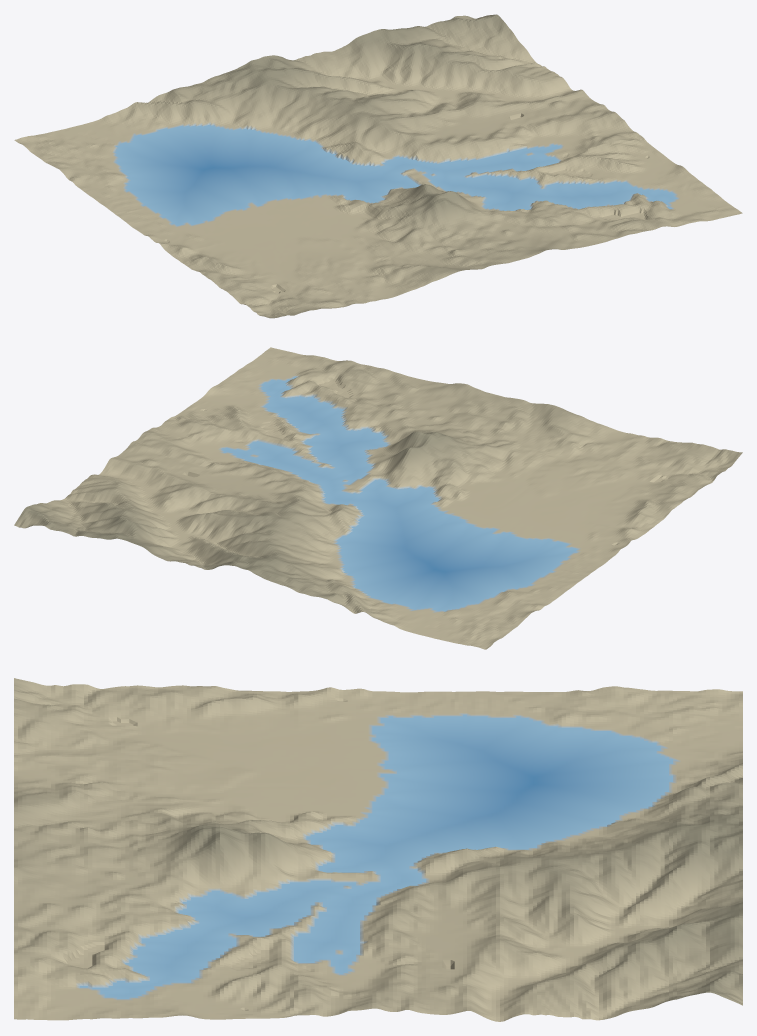
The model's file is clear_lake_ca.glb.
The picture shows the model from 3 angles, top to bottom: view 1: azimuth 30°, elevation 25°; view 2: azimuth 150°, elevation 25°; view 3: azimuth 270°, elevation 25°; orthographic projection. The views are drawn at different scales.
Parts seen in each view (by area): view 1: terrain, water; view 2: terrain, water; view 3: terrain, water.
Boxes of the visible parts, <box> form: terrain: <box>14,14,742,318</box>; water: <box>115,125,677,225</box>; terrain: <box>14,347,742,649</box>; water: <box>221,376,577,611</box>; terrain: <box>14,678,742,1021</box>; water: <box>80,714,672,998</box>.
Size of the model in its own units: 27979 by 1496 by 26342.
